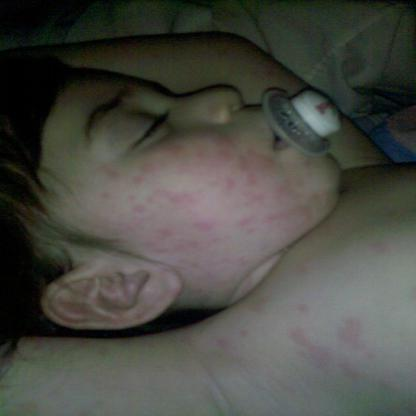Bed Bug: (92, 128, 233, 267), (284, 301, 398, 394), (236, 149, 327, 257), (183, 274, 241, 306), (211, 326, 253, 357), (363, 234, 391, 261), (284, 258, 315, 275)
